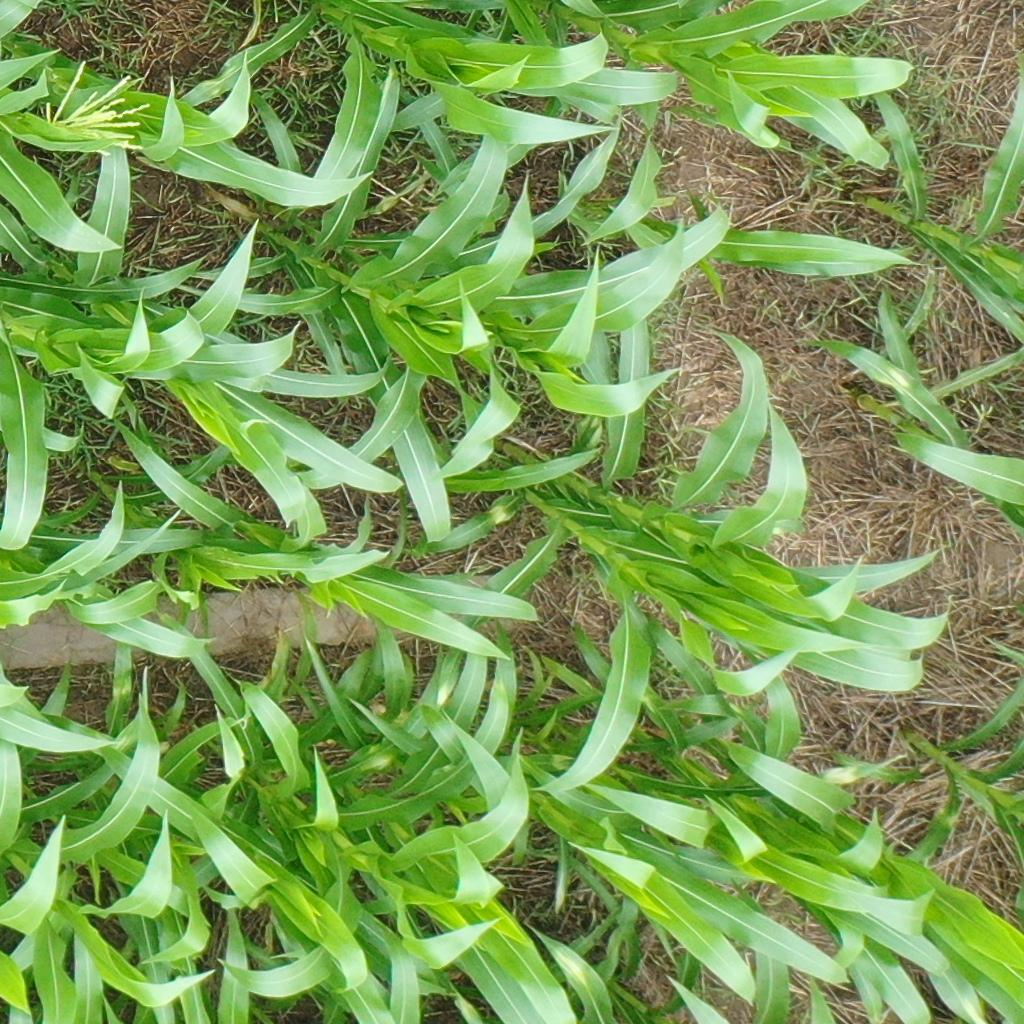Tassel: (37, 54, 160, 159)
